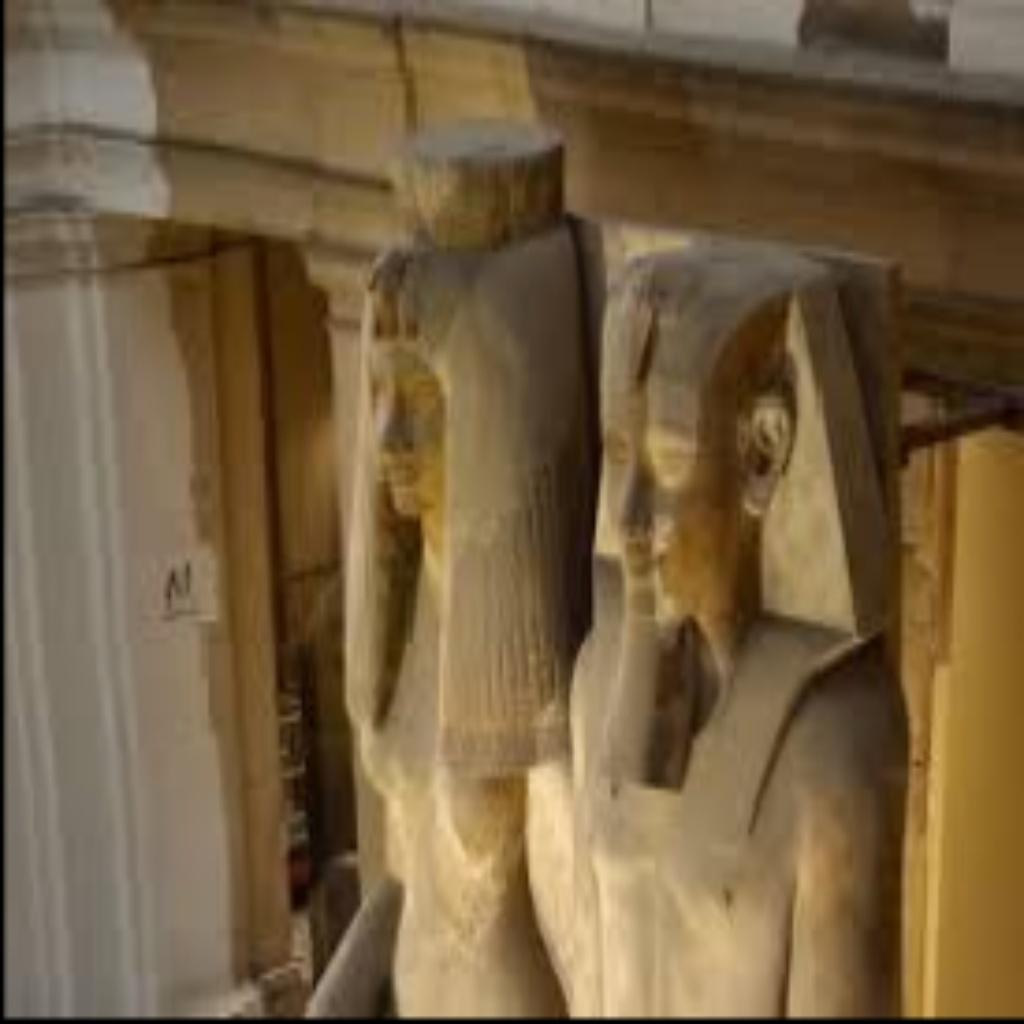Amenhotep III and Tiye: (339, 112, 912, 1013)
